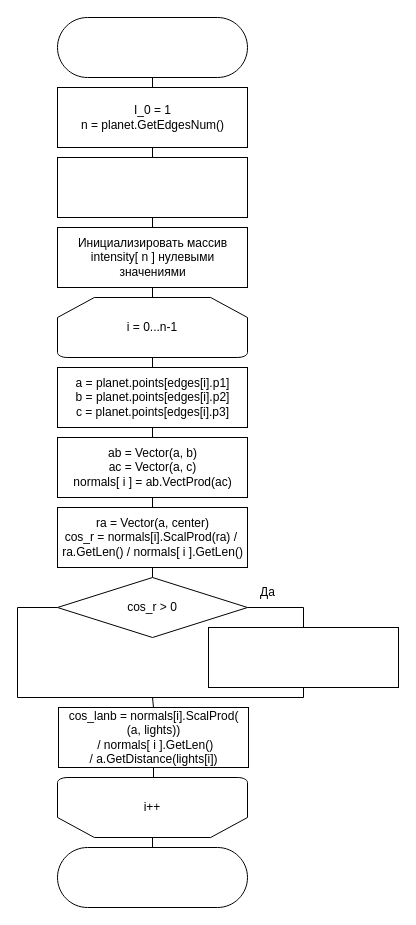
This 416x925 diagram has some shape labels left out. Here are the shapes that lost their labels. From the top down, the centre of each, then its label:
At (x=152, y=47): "Начало".
At (x=152, y=187): "Инициализировать массив векторов normals[ n ]".
At (x=303, y=657): "normals[ i ] = - normals[ i ]".
At (x=152, y=877): "Конец".
